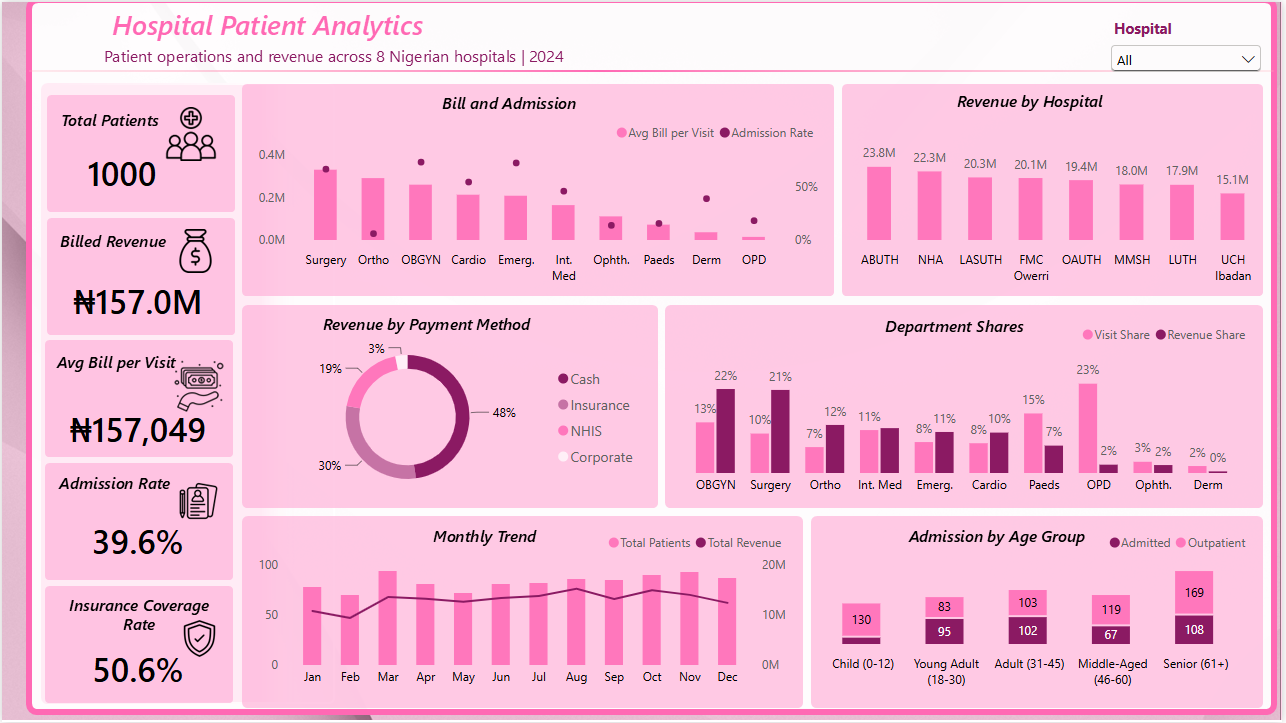

Layout of this report page (visuals, bound fields, positions):
{"tool":"powerbi","page":{"name":"Page 1","canvas":[1280,720],"ordinal":0},"visuals":[{"type":"cardVisual","fields":{"Data":["hospital_patients_cleaned.Total Patients"]},"box":[32,128,176,80],"z":0},{"type":"cardVisual","fields":{"Data":["hospital_patients_cleaned.Revenue KPI"]},"box":[48,240,176,96],"z":1000},{"type":"cardVisual","fields":{"Data":["hospital_patients_cleaned.Avg Bill KPI"]},"box":[48,384,176,80],"z":2000},{"type":"cardVisual","fields":{"Data":["hospital_patients_cleaned.Admission Rate"]},"box":[48,496,176,80],"z":3000},{"type":"cardVisual","fields":{"Data":["hospital_patients_cleaned.Insurance Coverage Rate"]},"box":[48,624,176,80],"z":4000},{"type":"clusteredColumnChart","fields":{"Category":["hospital_patients_cleaned.department_short"],"Y":["hospital_patients_cleaned.Visit Share","hospital_patients_cleaned.Revenue Share"]},"box":[656,304,608,208],"z":5000},{"type":"lineClusteredColumnComboChart","fields":{"Category":["hospital_patients_cleaned.department_short"],"Y":["hospital_patients_cleaned.Avg Bill per Visit"],"Y2":["hospital_patients_cleaned.Admission Rate"]},"box":[240,112,592,176],"z":6000},{"type":"donutChart","fields":{"Category":["hospital_patients_cleaned.payment_method"],"Y":["hospital_patients_cleaned.Total Revenue"]},"box":[240,320,416,192],"z":7000},{"type":"clusteredColumnChart","fields":{"Category":["hospital_patients_cleaned.hospital_short"],"Y":["hospital_patients_cleaned.Total Revenue"]},"box":[816,128,464,160],"z":8000},{"type":"lineClusteredColumnComboChart","fields":{"Category":["hospital_patients_cleaned.visit_month_name"],"Y":["hospital_patients_cleaned.Total Patients"],"Y2":["hospital_patients_cleaned.Total Revenue"]},"box":[240,512,560,192],"z":9000},{"type":"columnChart","fields":{"Category":["hospital_patients_cleaned.age_group"],"Series":["hospital_patients_cleaned.admission_status"],"Y":["hospital_patients_cleaned.Total Patients"]},"box":[768,512,496,192],"z":10000},{"type":"slicer","fields":{"Values":["hospital_patients_cleaned.hospital_short"]},"box":[1104,16,160,80],"z":12000}]}

Visuals, with their boxes in screenshot pixels (x1, y1, x2, y2), scaled from the page's 1280x720 canvas onto the 1286x723 screenshot:
cardVisual - hospital_patients_cleaned.Total Patients: detection(32, 129, 209, 209)
cardVisual - hospital_patients_cleaned.Revenue KPI: detection(48, 241, 225, 337)
cardVisual - hospital_patients_cleaned.Avg Bill KPI: detection(48, 386, 225, 466)
cardVisual - hospital_patients_cleaned.Admission Rate: detection(48, 498, 225, 578)
cardVisual - hospital_patients_cleaned.Insurance Coverage Rate: detection(48, 627, 225, 707)
clusteredColumnChart - hospital_patients_cleaned.department_short x hospital_patients_cleaned.Visit Share: detection(659, 305, 1270, 514)
lineClusteredColumnComboChart - hospital_patients_cleaned.department_short x hospital_patients_cleaned.Avg Bill per Visit: detection(241, 112, 836, 289)
donutChart - hospital_patients_cleaned.payment_method x hospital_patients_cleaned.Total Revenue: detection(241, 321, 659, 514)
clusteredColumnChart - hospital_patients_cleaned.hospital_short x hospital_patients_cleaned.Total Revenue: detection(820, 129, 1285, 289)
lineClusteredColumnComboChart - hospital_patients_cleaned.visit_month_name x hospital_patients_cleaned.Total Patients: detection(241, 514, 804, 707)
columnChart - hospital_patients_cleaned.age_group x hospital_patients_cleaned.admission_status: detection(772, 514, 1270, 707)
slicer - hospital_patients_cleaned.hospital_short: detection(1109, 16, 1270, 96)
